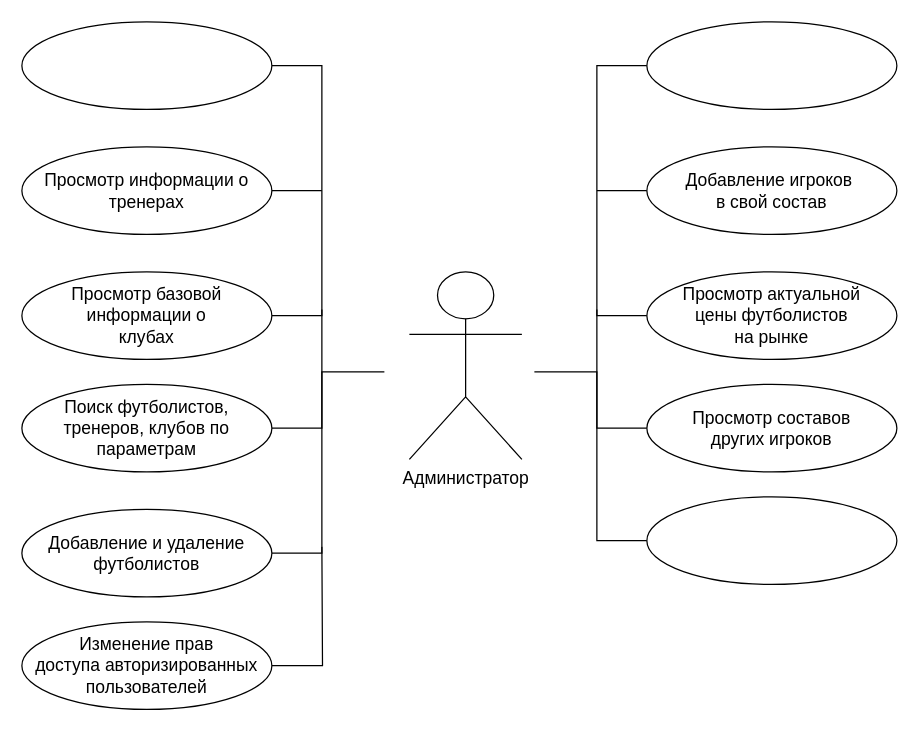
This 919x731 diagram has some shape labels left out. The box of each missing label's shape, as (x1, y1, x2, y2) in pixels:
Выход из аккаунта: (646, 21, 897, 109)
Просмотр базовой информации о футболистах: (21, 21, 272, 109)
Просмотр игроков из других составов: (646, 496, 897, 584)
